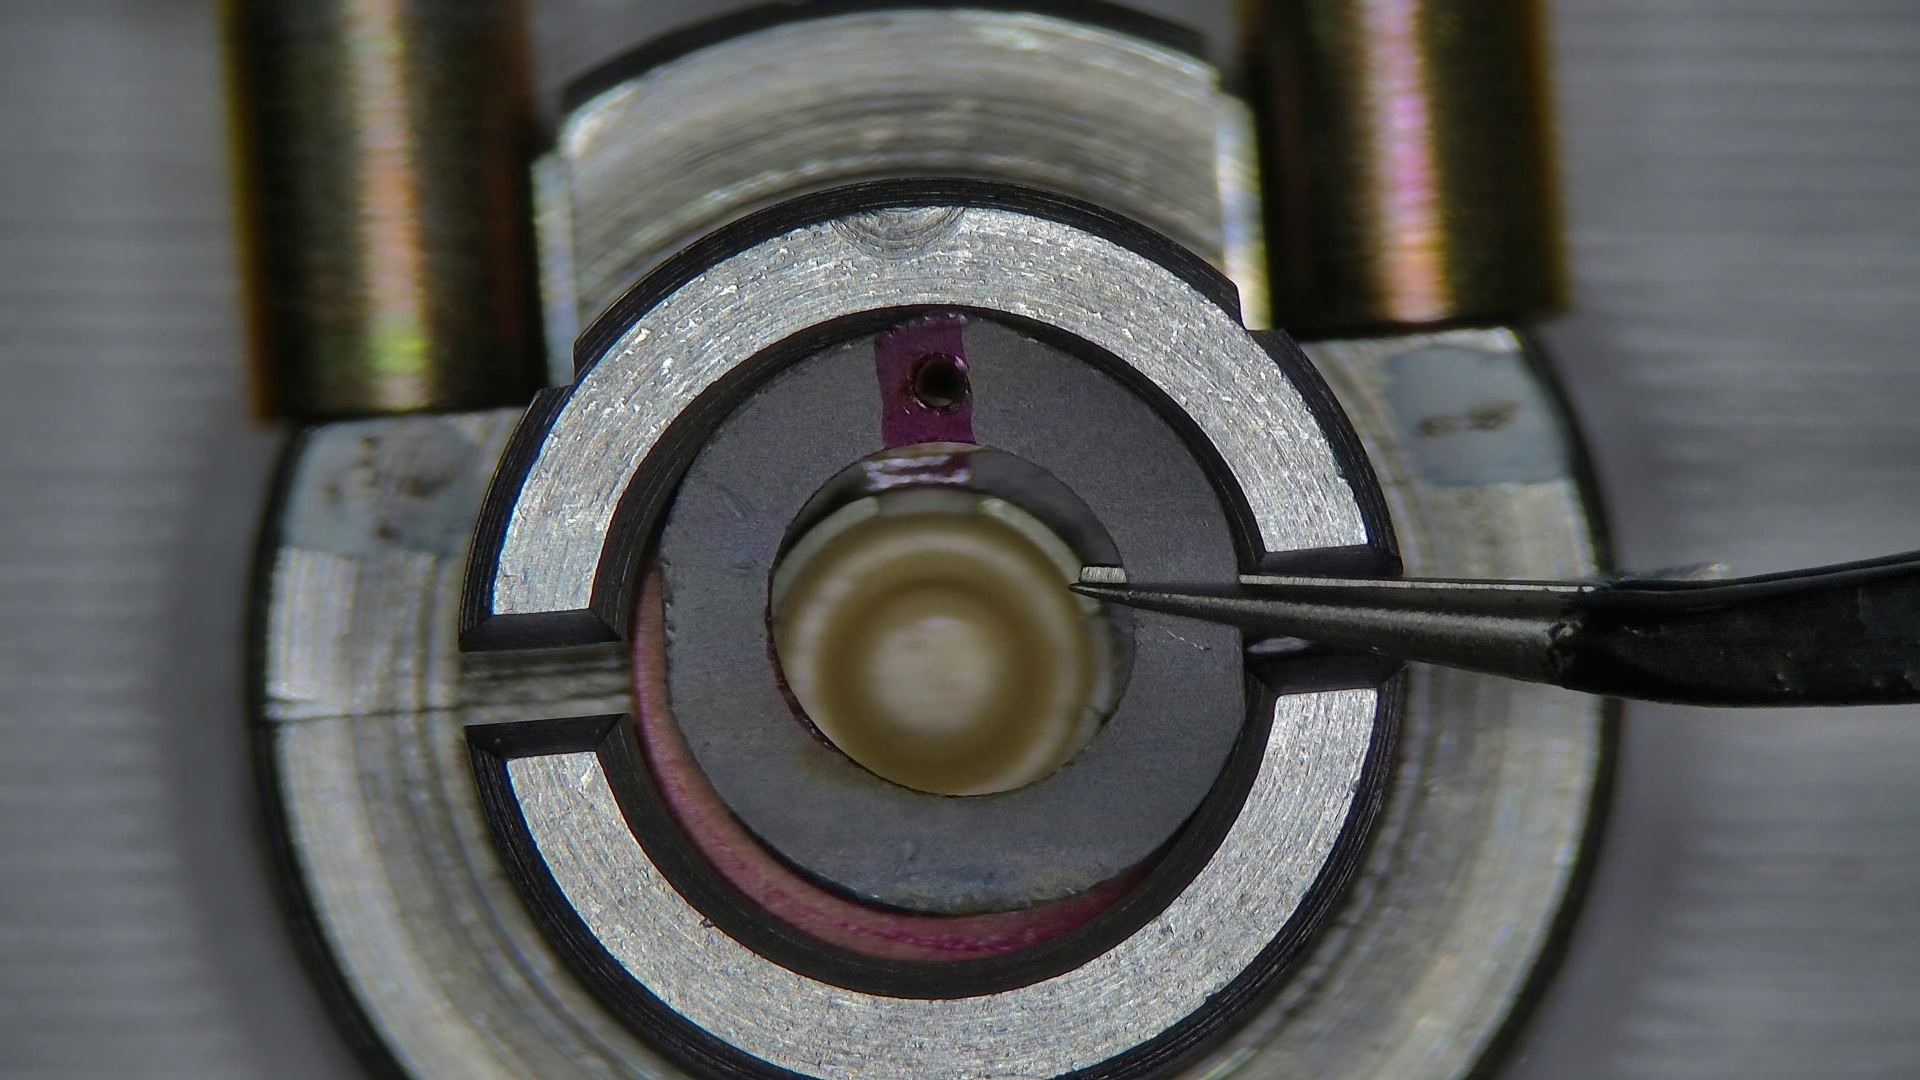GreyOring: (640, 564, 1127, 963)
YellowOring: (659, 314, 1247, 914), (796, 447, 1118, 564), (1092, 599, 1131, 735)
